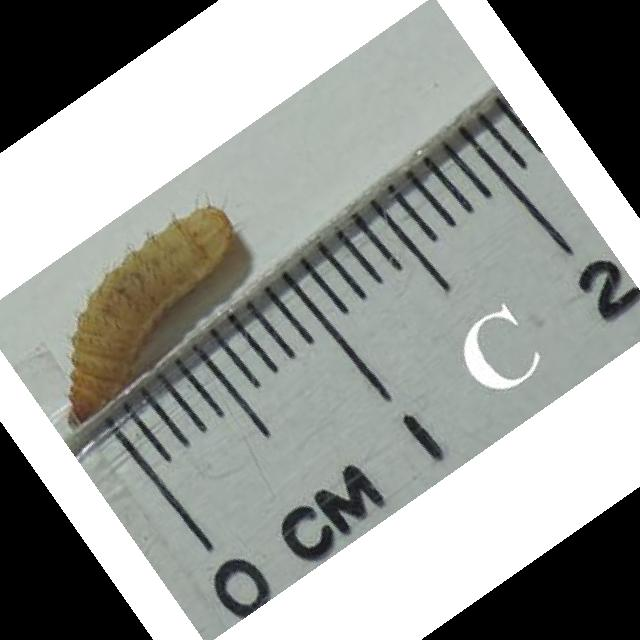Maggot: (63, 204, 236, 431)
